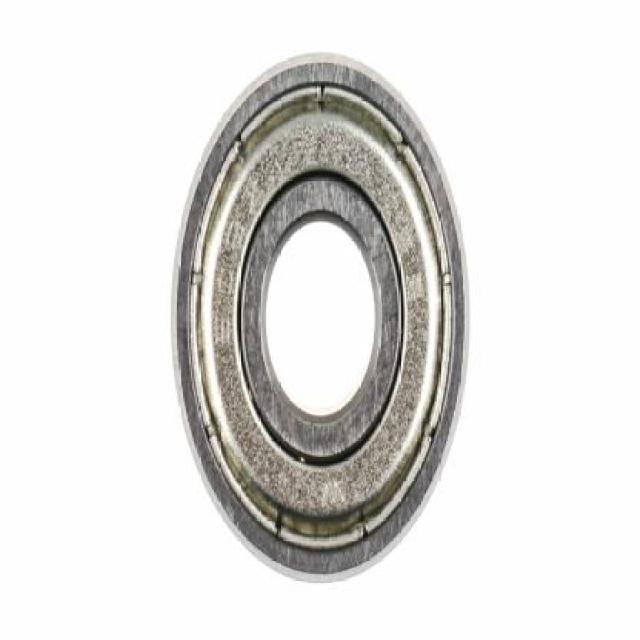Bearing: (171, 49, 471, 583)
